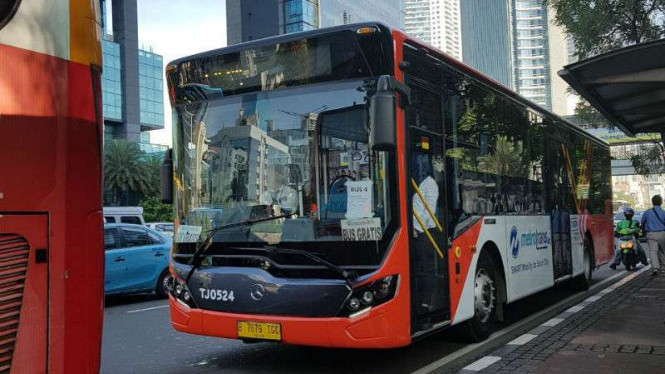plate: (240, 320, 278, 336)
